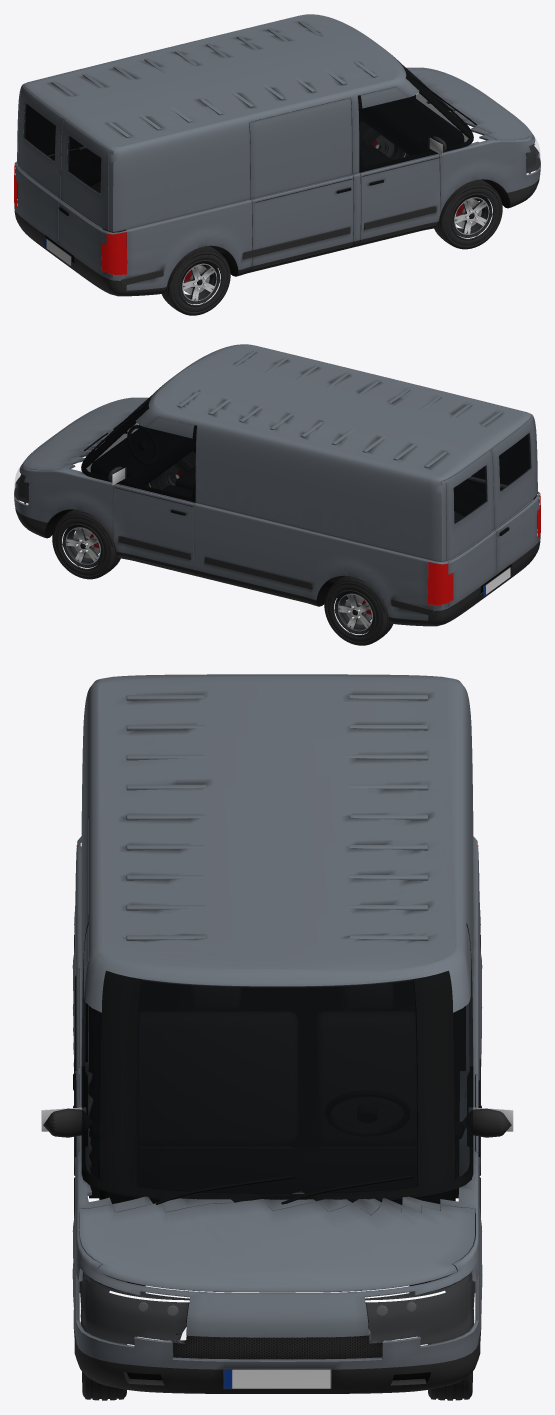
File: van-hi-v1.glb
3 views of the same model, one above another, from view 1: azimuth 30°, elevation 25°; view 2: azimuth 150°, elevation 25°; view 3: azimuth 270°, elevation 25° (orthographic). The views are drawn at different scales.
Visible parts, largest first — view 1: body_geo, slide_door_R_panel_geo, interior_geo, door_FR_panel_geo, door_RR_rear_panel_geo, door_RL_rear_panel_geo, glass_FR_geo, hood_panel_geo, tyre_RR_geo, tyre_FR_geo, glass_RR_rear_geo, glass_RL_rear_geo (+5 smaller); view 2: body_geo, interior_geo, door_FL_panel_geo, door_RL_rear_panel_geo, door_RR_rear_panel_geo, glass_FL_geo, hood_panel_geo, tyre_RL_geo, tyre_FL_geo, glass_RL_rear_geo, glass_RR_rear_geo, rim_RL_geo (+4 smaller); view 3: body_geo, interior_geo, glass_front_geo, hood_panel_geo, lights_front_geo, glass_QL_geo, glass_QR_geo, slide_door_R_panel_geo, mirror_L_geo, mirror_R_geo, door_FL_panel_geo, door_FR_panel_geo (+2 smaller).
Boxes of the visible parts, left/top/right/bottom form: body_geo: left=14, top=14, right=540, bottom=296; slide_door_R_panel_geo: left=249, top=97, right=353, bottom=269; interior_geo: left=17, top=95, right=463, bottom=254; door_FR_panel_geo: left=358, top=86, right=440, bottom=242; door_RR_rear_panel_geo: left=58, top=119, right=113, bottom=277; door_RL_rear_panel_geo: left=15, top=85, right=63, bottom=244; glass_FR_geo: left=359, top=98, right=440, bottom=168; hood_panel_geo: left=406, top=67, right=532, bottom=140; tyre_RR_geo: left=161, top=246, right=230, bottom=315; tyre_FR_geo: left=434, top=179, right=502, bottom=249; glass_RR_rear_geo: left=67, top=136, right=100, bottom=193; glass_RL_rear_geo: left=23, top=103, right=55, bottom=161; body_geo: left=14, top=344, right=540, bottom=626; interior_geo: left=91, top=425, right=537, bottom=584; door_FL_panel_geo: left=114, top=416, right=196, bottom=572; door_RL_rear_panel_geo: left=441, top=449, right=496, bottom=607; door_RR_rear_panel_geo: left=491, top=415, right=539, bottom=574; glass_FL_geo: left=114, top=428, right=195, bottom=498; hood_panel_geo: left=22, top=397, right=148, bottom=470; tyre_RL_geo: left=324, top=576, right=393, bottom=645; tyre_FL_geo: left=52, top=509, right=120, bottom=579; glass_RL_rear_geo: left=454, top=466, right=487, bottom=523; glass_RR_rear_geo: left=499, top=433, right=531, bottom=491; rim_RL_geo: left=335, top=591, right=374, bottom=634; body_geo: left=72, top=674, right=482, bottom=1393; interior_geo: left=80, top=981, right=474, bottom=1328; glass_front_geo: left=137, top=979, right=417, bottom=1192; hood_panel_geo: left=79, top=1199, right=475, bottom=1292; lights_front_geo: left=76, top=1269, right=478, bottom=1346; glass_QL_geo: left=453, top=997, right=473, bottom=1177; glass_QR_geo: left=81, top=997, right=101, bottom=1177; slide_door_R_panel_geo: left=74, top=817, right=88, bottom=1079; mirror_L_geo: left=454, top=1107, right=513, bottom=1138; mirror_R_geo: left=41, top=1107, right=100, bottom=1138; door_FL_panel_geo: left=466, top=923, right=480, bottom=1284; door_FR_panel_geo: left=74, top=923, right=88, bottom=1192.
Bounding box in the file's own units: 5 × 1.97 × 2.25.
Materials: 25 (7 with a texture image).
